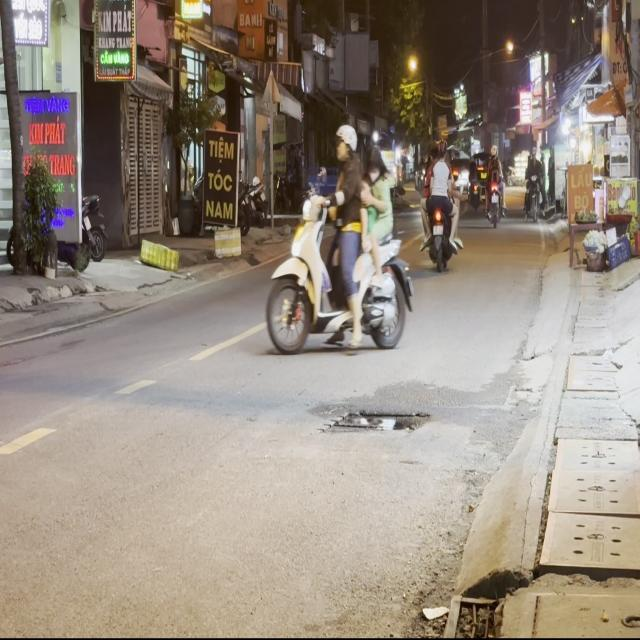helmet: (332, 122, 358, 167)
licenseplate: (262, 118, 414, 355)
motorcyclist: (363, 142, 387, 185)
